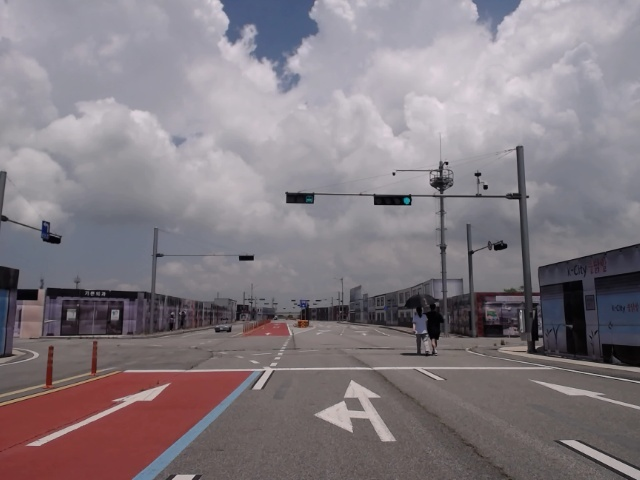straight_green_4: (373, 195, 413, 205)
